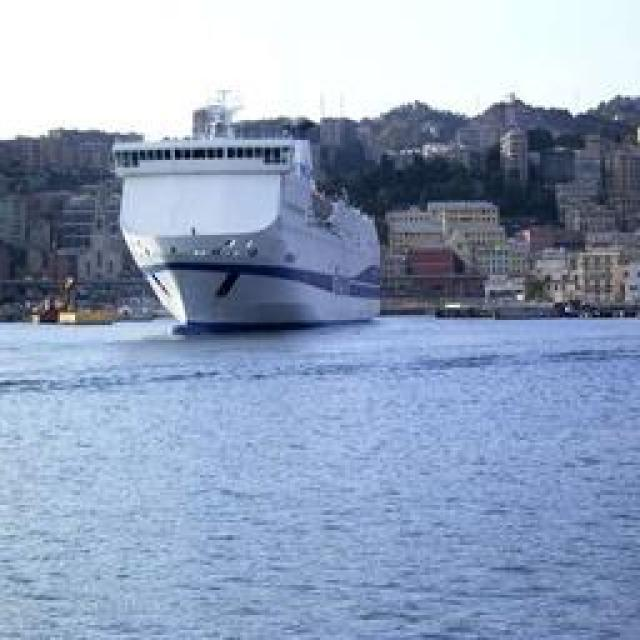CIV_Ship: (114, 124, 384, 328)
